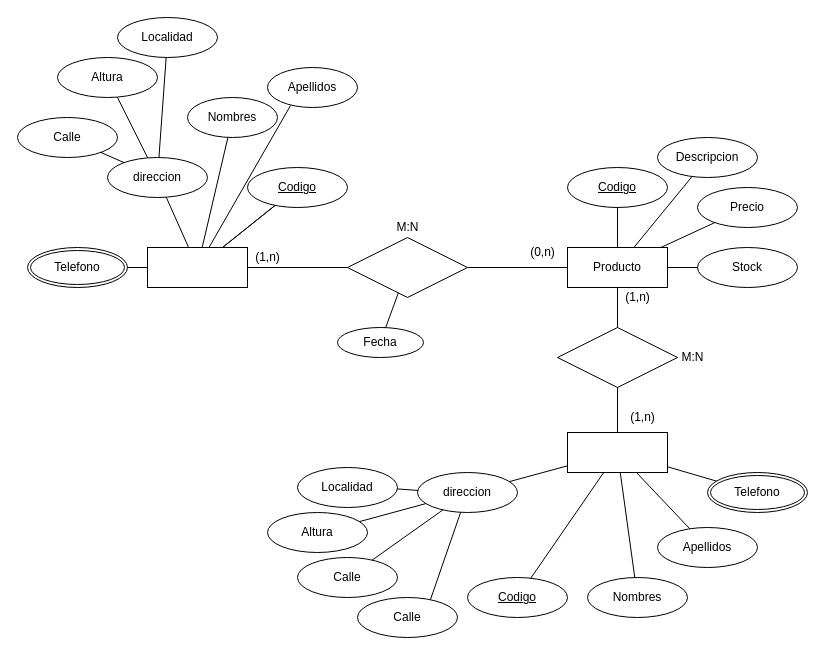
Image size: 825x655. Some labels were removed from this diagram. The centre of each missing label's shape, as x and y in pixels:
"Cliente" belongs at point 197,267.
"Compra" belongs at point 407,267.
"Provee" belongs at point 617,357.
"Proveedor" belongs at point 617,452.
